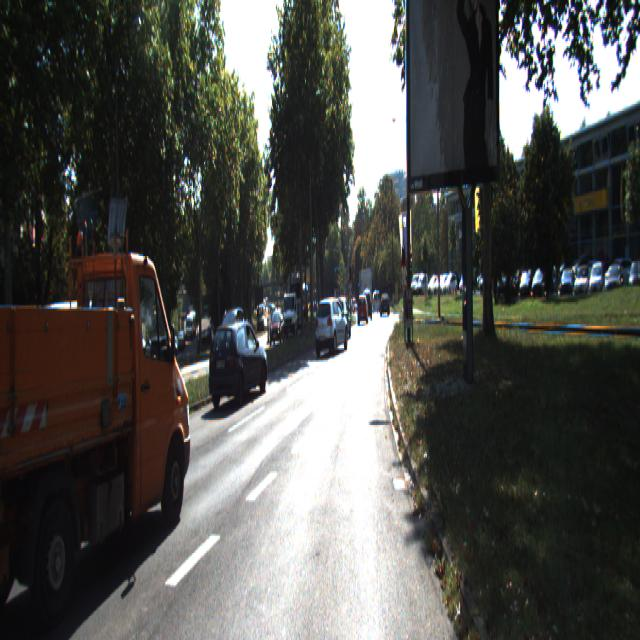Car: (0, 203, 196, 638), (0, 296, 116, 447), (207, 320, 270, 412), (215, 309, 248, 370), (315, 300, 348, 360), (330, 294, 352, 340), (282, 292, 298, 338), (358, 295, 369, 326)
